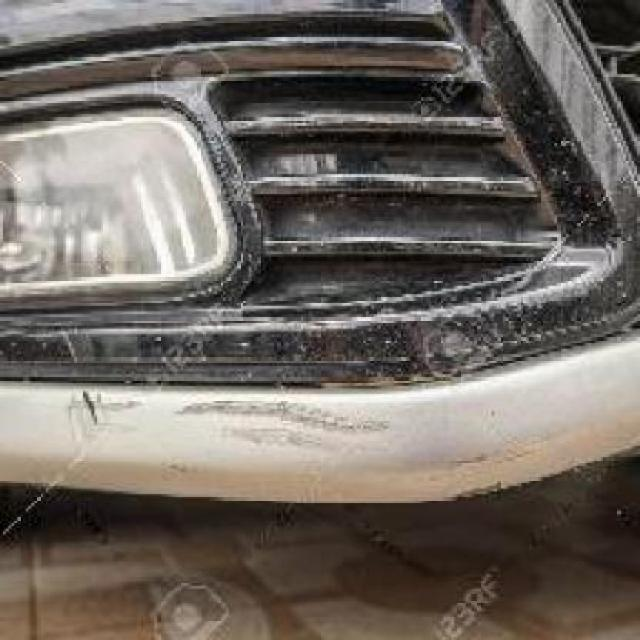dent-or-scratch: (90, 388, 392, 467)
